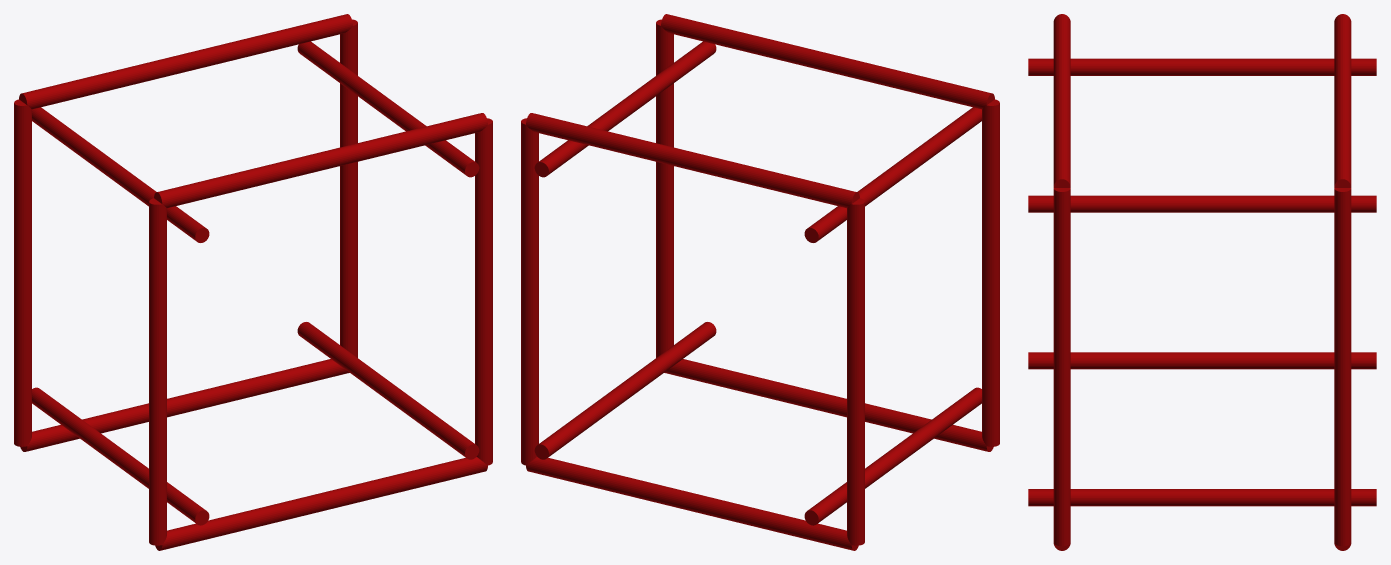
Rendered from moonRock.obj.
The picture shows the model from 3 angles, left to right: view 1: azimuth 30°, elevation 25°; view 2: azimuth 150°, elevation 25°; view 3: azimuth 270°, elevation 25°; orthographic projection. The views are drawn at different scales.
Visible parts, largest first — view 1: Cylinder.004_Cylinder.009, Cylinder.005, Cylinder, Cylinder.003, Cylinder.002, Cylinder.001; view 2: Cylinder.005, Cylinder.004_Cylinder.009, Cylinder, Cylinder.003, Cylinder.002, Cylinder.001; view 3: Cylinder.005, Cylinder.004_Cylinder.009, Cylinder, Cylinder.001, Cylinder.002, Cylinder.003.
Boxes of the visible parts, x1,y1,x2,y2 form: Cylinder.004_Cylinder.009: (149, 113, 492, 550); Cylinder.005: (14, 14, 357, 451); Cylinder: (297, 322, 479, 459); Cylinder.003: (297, 41, 479, 177); Cylinder.002: (32, 107, 209, 242); Cylinder.001: (32, 387, 209, 525); Cylinder.005: (521, 113, 864, 550); Cylinder.004_Cylinder.009: (656, 14, 999, 451); Cylinder: (534, 322, 716, 459); Cylinder.003: (534, 41, 716, 177); Cylinder.002: (804, 107, 981, 242); Cylinder.001: (804, 387, 981, 525); Cylinder.005: (1334, 14, 1351, 550); Cylinder.004_Cylinder.009: (1053, 14, 1070, 550); Cylinder: (1028, 489, 1376, 506); Cylinder.001: (1028, 352, 1376, 369); Cylinder.002: (1028, 58, 1376, 75); Cylinder.003: (1028, 195, 1376, 212).
Bounding box in the file's own units: 0.152 × 0.152 × 0.129.
